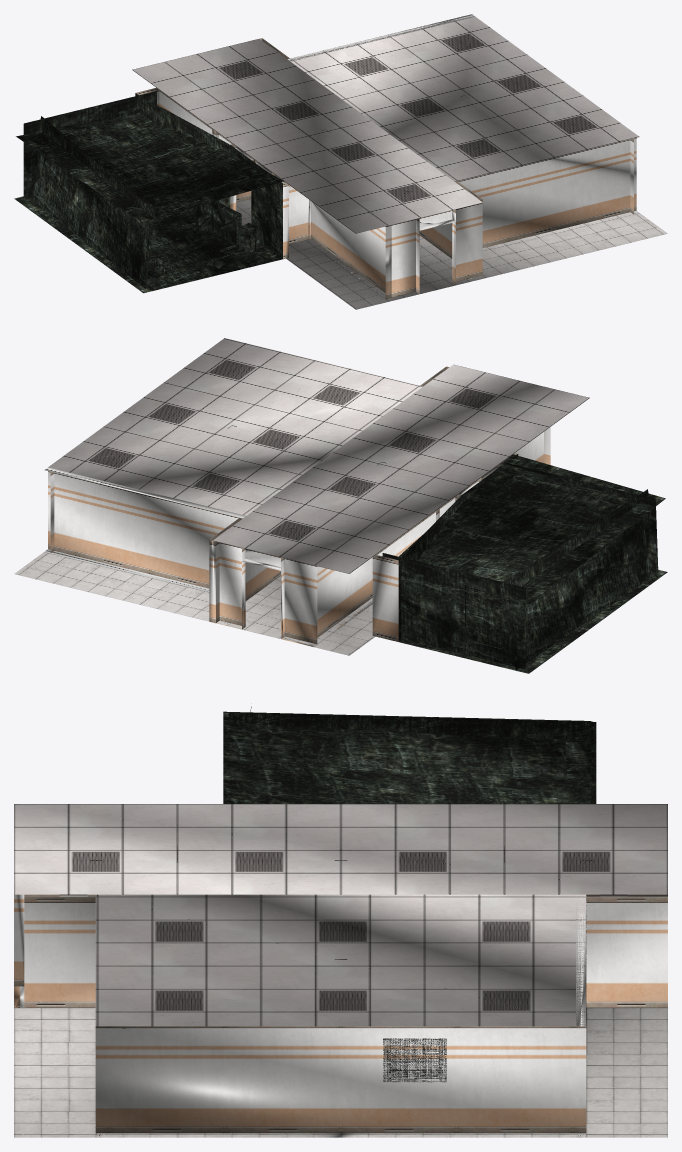
Rendered from room2poffices2_opt.obj.
The picture shows the model from 3 angles, top to bottom: view 1: azimuth 30°, elevation 25°; view 2: azimuth 150°, elevation 25°; view 3: azimuth 270°, elevation 25°; orthographic projection. The views are drawn at different scales.
Size of the model in its own units: 120 by 22.01 by 102.
19 materials, 19 textured.
